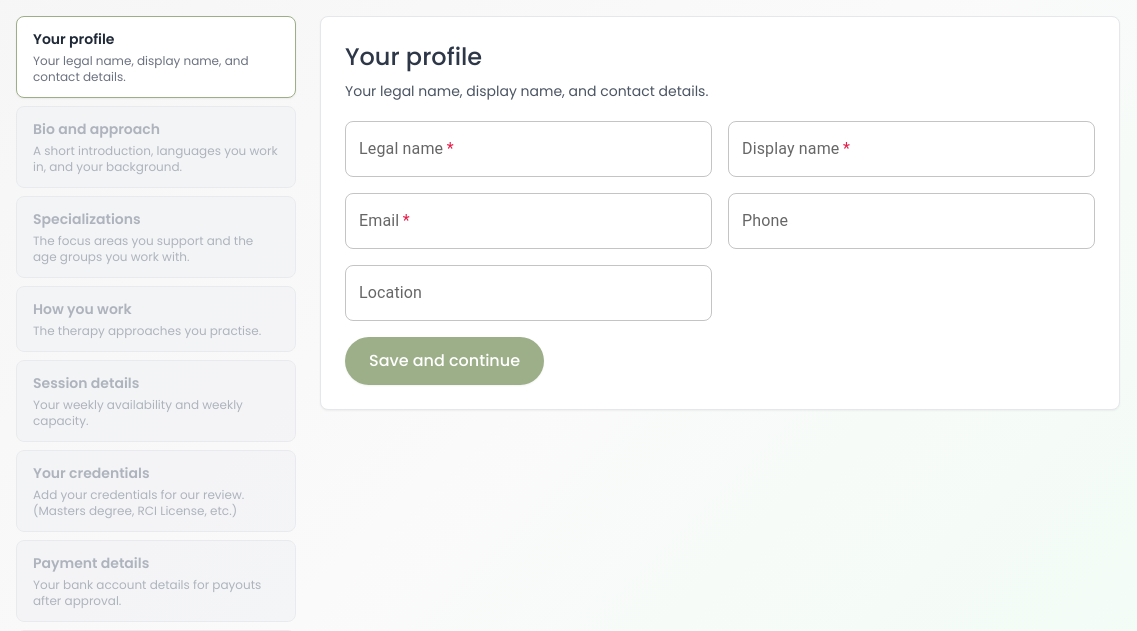
Test case: provider onboarding route › saves the current section, marks it complete, activates the next section, and allows backtracking
In the field labelled "Legal name *": (528, 149) [345,121,712,177], type "Dr. Asha Rao"
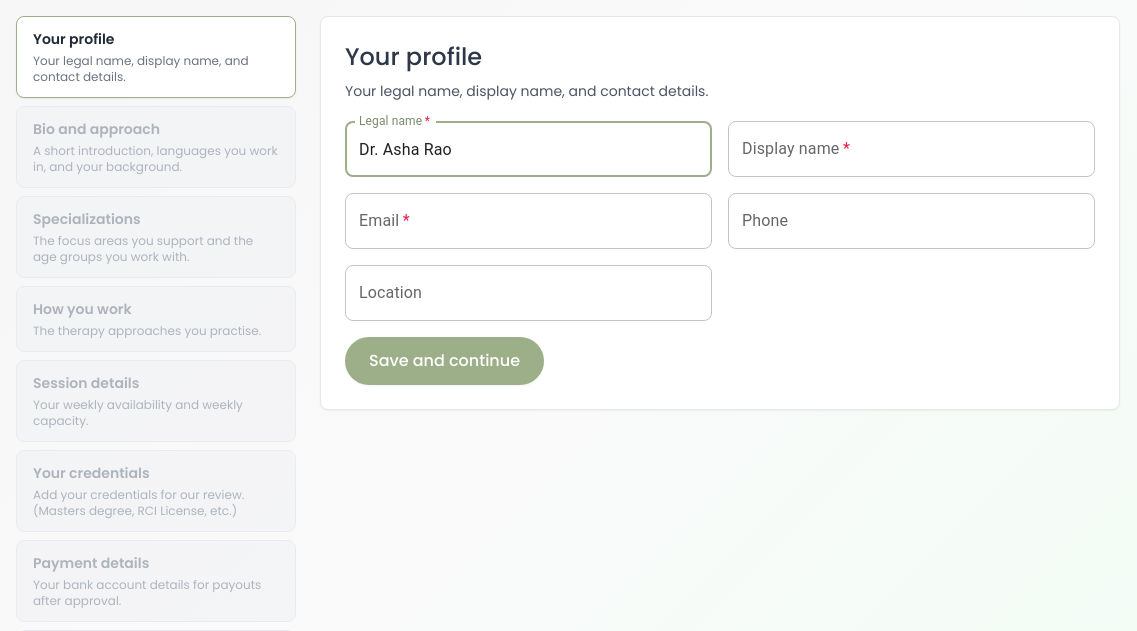
In the field labelled "Display name *": (912, 149) [728,121,1095,177], type "Asha Rao"
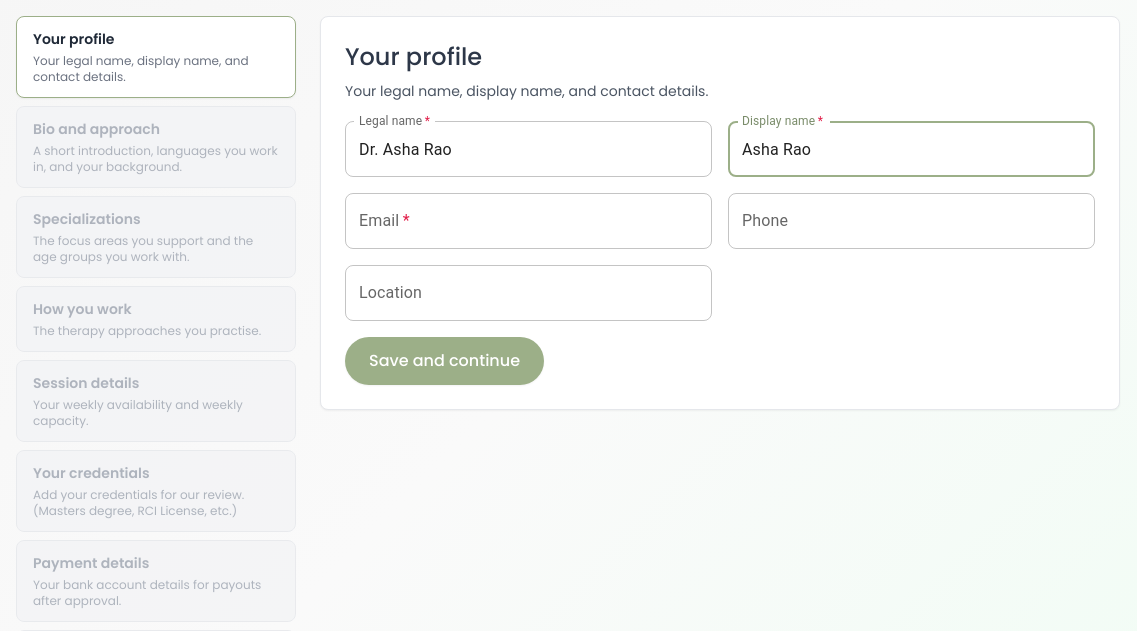
In the field labelled "Email *": (528, 221) [345,193,712,249], type "asha@example.com"
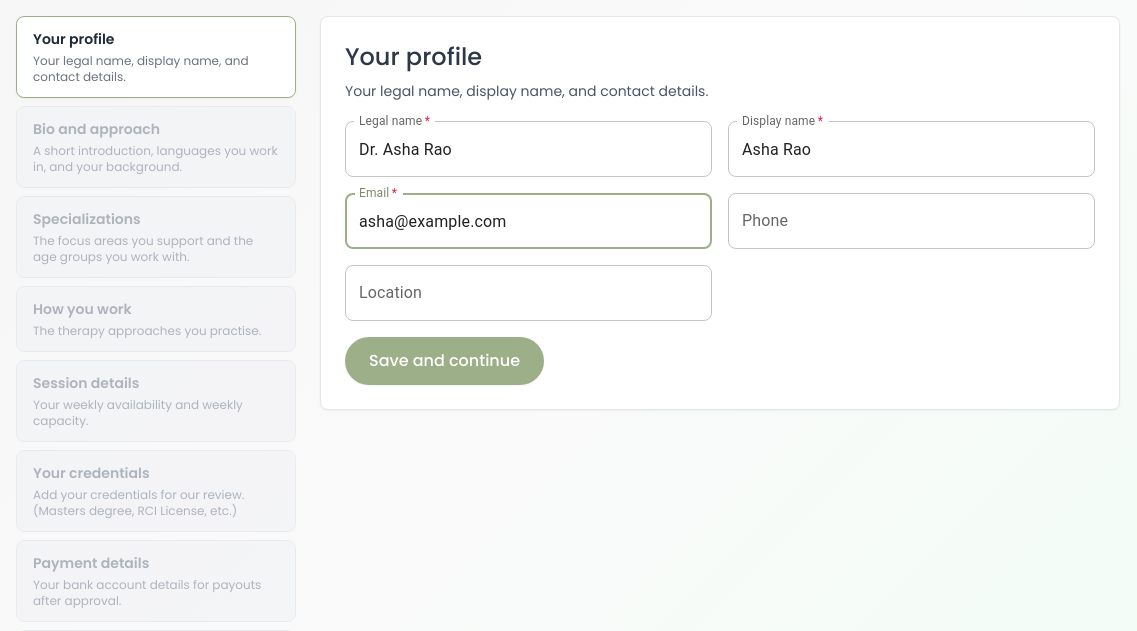
Click the button "Save and continue": (444, 361) [345,337,544,385]
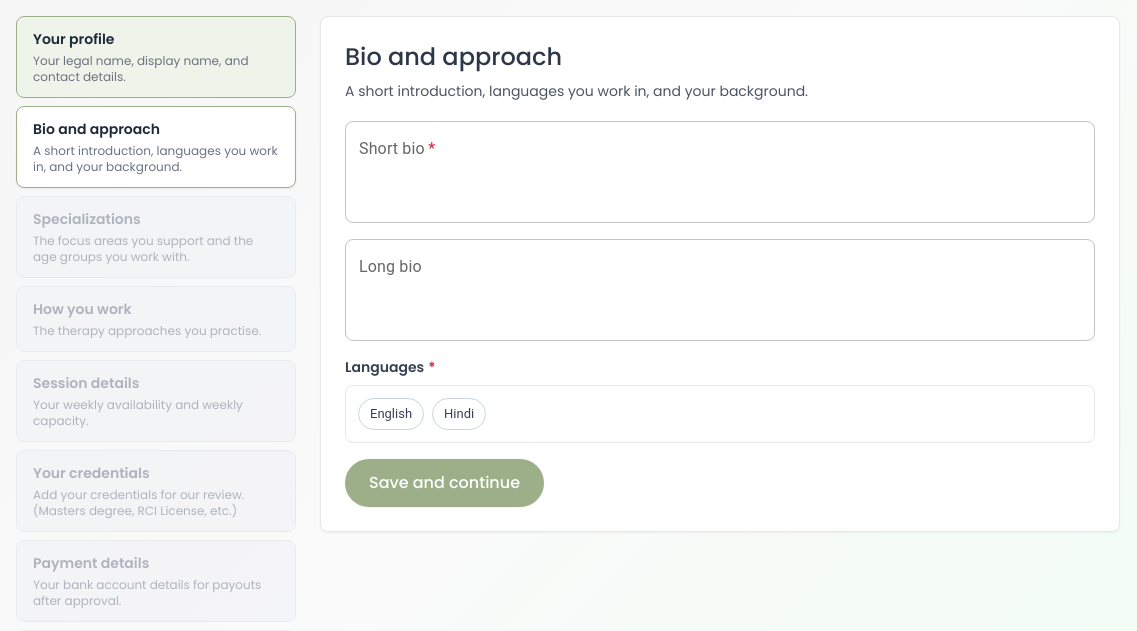
Expected: the button "Specializations" is disabled, [16,196,296,278]
Expected: the heading "Bio and approach" is shown, [345,40,562,73]
Click the button "Your profile": (156, 57) [16,16,296,98]
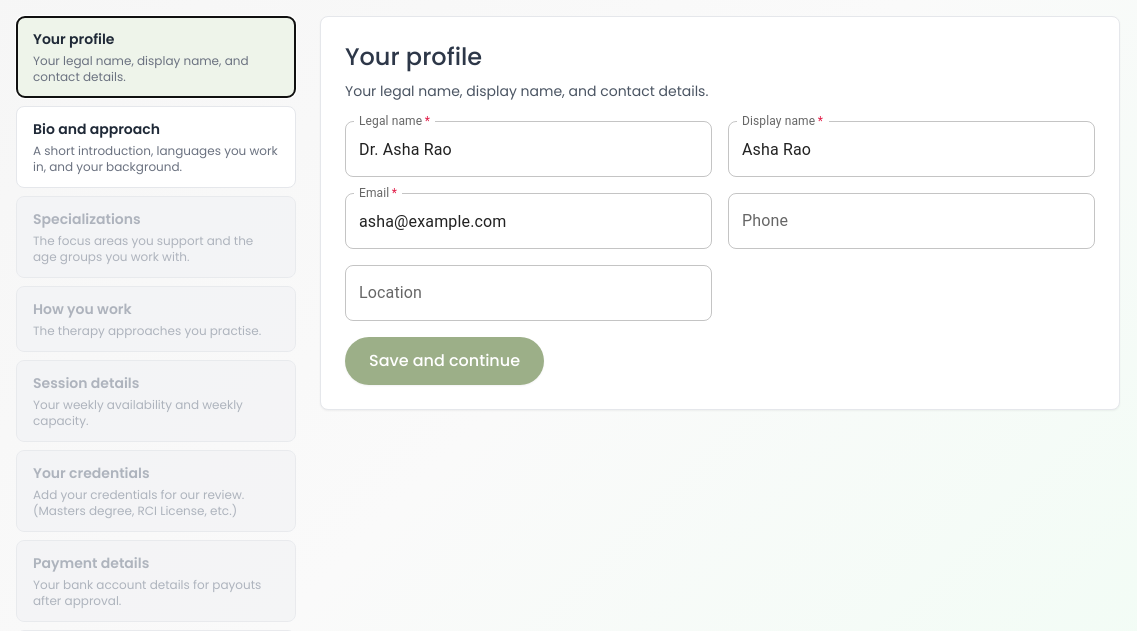
Expected: the field showing "Dr. Asha Rao" is shown, [345,121,712,177]
